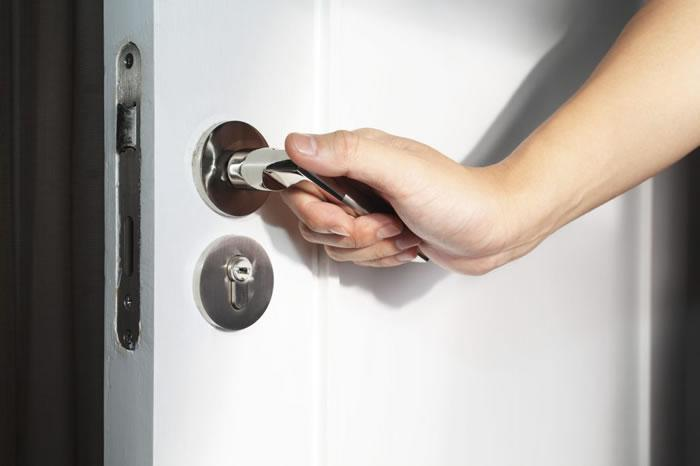doorhandle: (196, 104, 433, 260)
